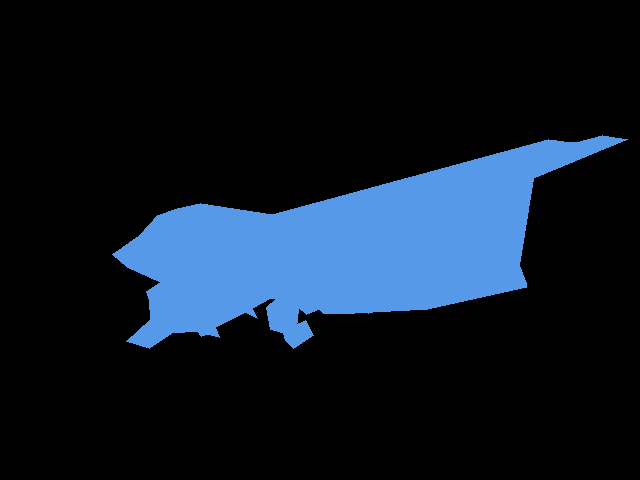Airplane: (112, 135, 628, 348)
